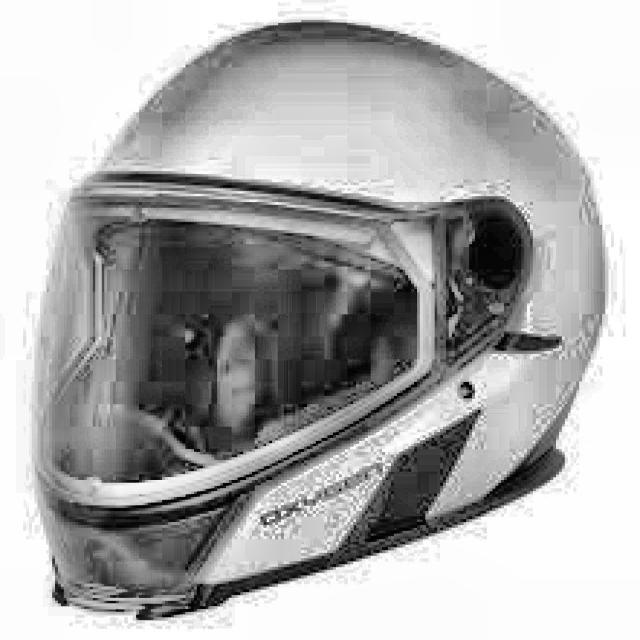Helmet: (28, 17, 611, 640)
